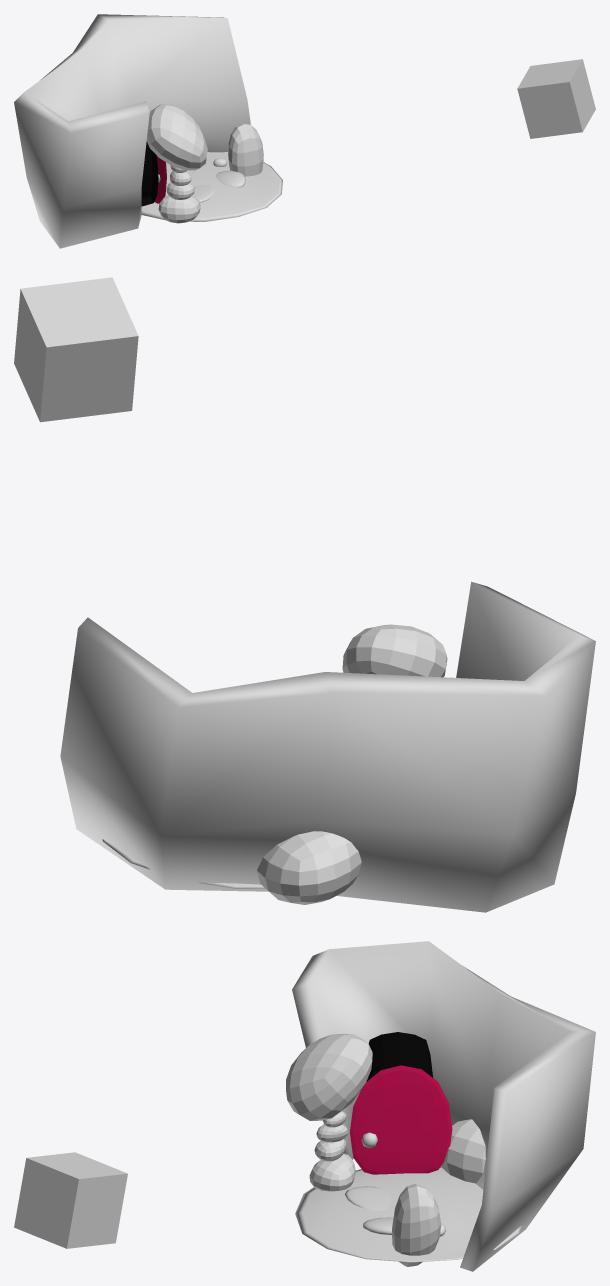
3 views of the same model, one above another, from view 1: azimuth 30°, elevation 25°; view 2: azimuth 150°, elevation 25°; view 3: azimuth 270°, elevation 25° (orthographic). The views are drawn at different scales.
Visible parts, largest first — view 1: cube.014-colonly, cam_maker-colonly, cube-colonly, cube.011-colonly, cube.012-colonly, cube.004-colonly, cube.013-colonly, cube.006-colonly, cube.008-colonly, cube.001-colonly; view 2: cube.014-colonly, cam_maker-colonly, cube.003-colonly, cube.011-colonly; view 3: cube.014-colonly, cube-colonly, cube.001-colonly, cam_maker-colonly, cube.011-colonly, cube.012-colonly, cube.013-colonly, cube.003-colonly, cube.004-colonly, cube.007-colonly, cube.008-colonly, cube.009-colonly (+1 smaller).
Boxes of the visible parts, box(x1,y1,x2,y2) form: cube.014-colonly: box(14, 14, 250, 248); cam_maker-colonly: box(517, 59, 595, 138); cube-colonly: box(141, 152, 282, 221); cube.011-colonly: box(146, 104, 207, 170); cube.012-colonly: box(228, 123, 263, 176); cube.004-colonly: box(158, 195, 200, 223); cube.013-colonly: box(141, 141, 158, 206); cube.006-colonly: box(216, 170, 245, 187); cube.008-colonly: box(166, 182, 194, 199); cube.001-colonly: box(154, 155, 166, 203); cube.014-colonly: box(60, 581, 595, 912); cam_maker-colonly: box(14, 277, 138, 422); cube.003-colonly: box(257, 831, 361, 904); cube.011-colonly: box(342, 624, 447, 677); cube.014-colonly: box(292, 941, 595, 1271); cube-colonly: box(295, 1167, 522, 1262); cube.001-colonly: box(350, 1065, 452, 1174); cam_maker-colonly: box(14, 1152, 127, 1248); cube.011-colonly: box(286, 1033, 372, 1120); cube.012-colonly: box(392, 1183, 441, 1266); cube.013-colonly: box(366, 1032, 432, 1081); cube.003-colonly: box(441, 1119, 485, 1183); cube.004-colonly: box(309, 1153, 355, 1191); cube.007-colonly: box(345, 1186, 391, 1210); cube.008-colonly: box(314, 1139, 346, 1161); cube.009-colonly: box(316, 1124, 348, 1142).
Bounding box in the file's own units: 9.24 × 3.35 × 7.96.
